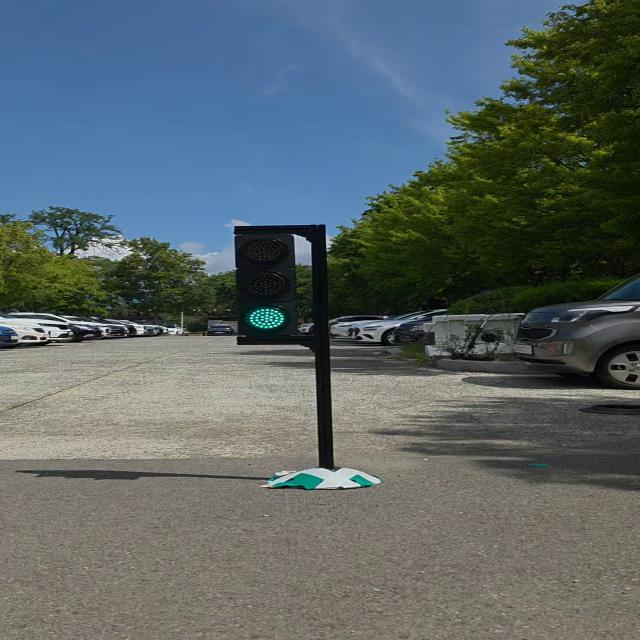green: (237, 226, 301, 341)
